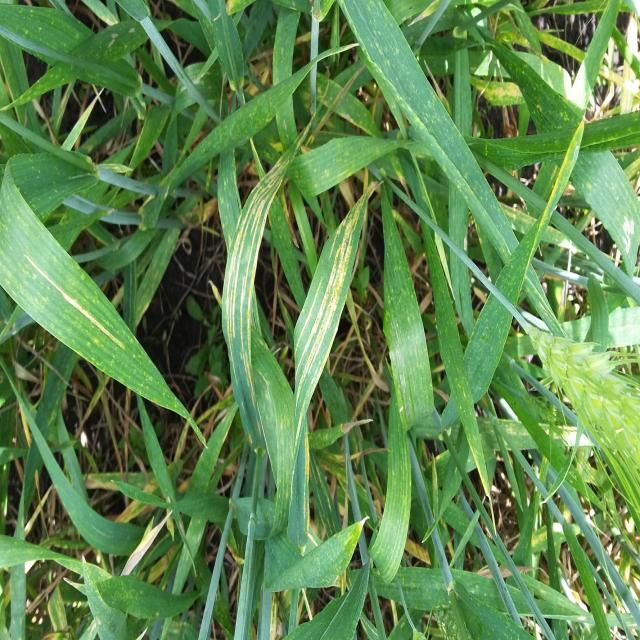wheat-yellowrust: (222, 153, 285, 416), (305, 233, 357, 395)
